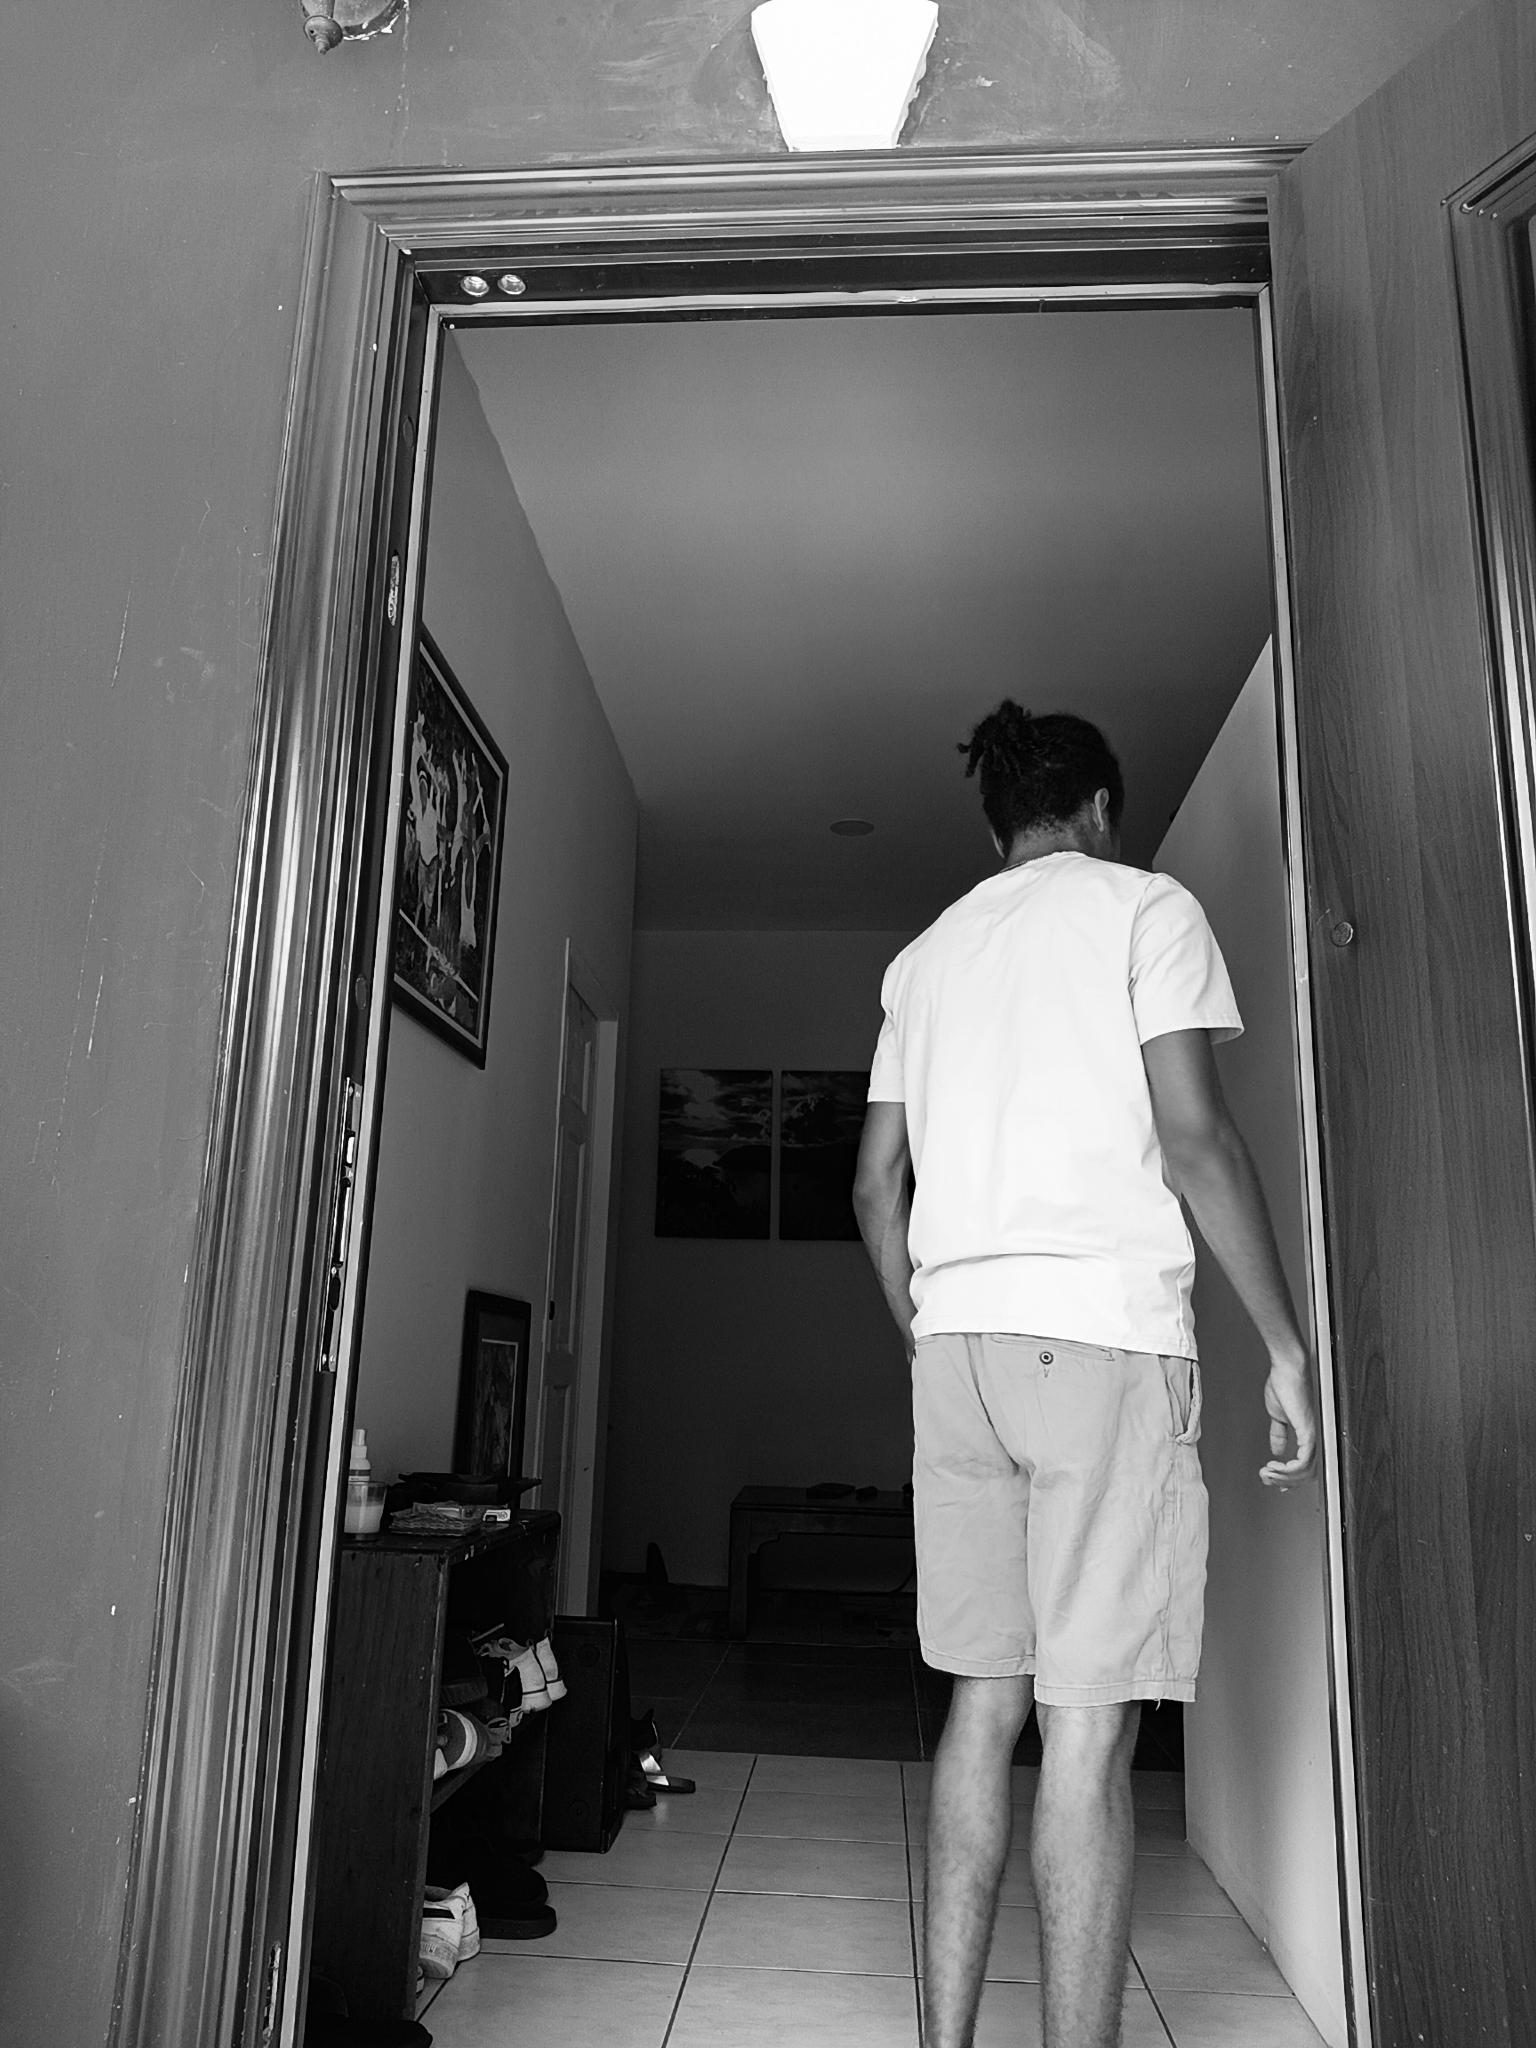back: (844, 693, 1320, 2040)
